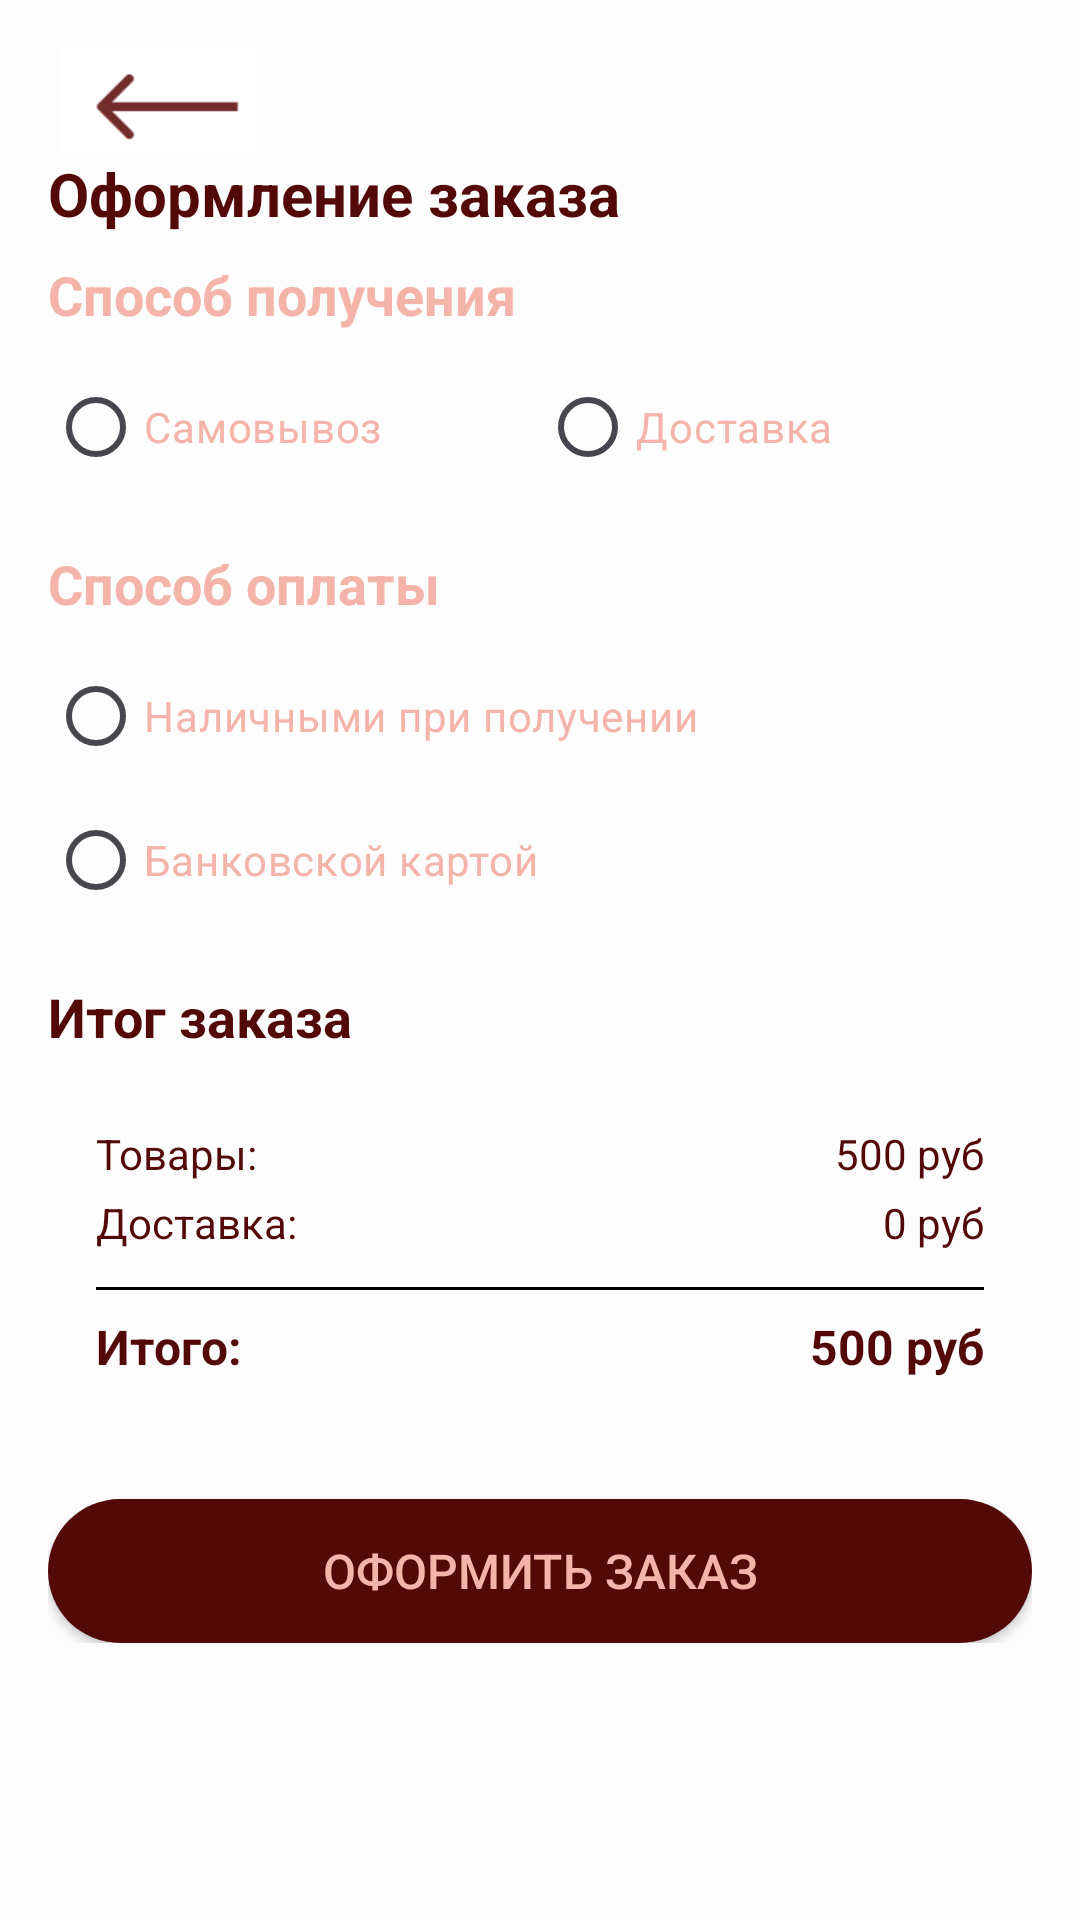

Screen size 1080px×1920px. Icon name, then its box in pixels as (x1, y1, x2, y2):
strelochka: (96, 74, 239, 140)
